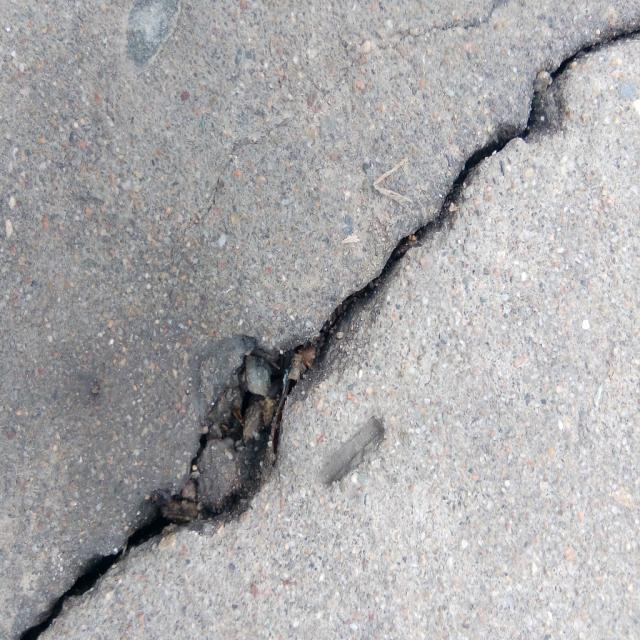cracks: (17, 0, 638, 640)
